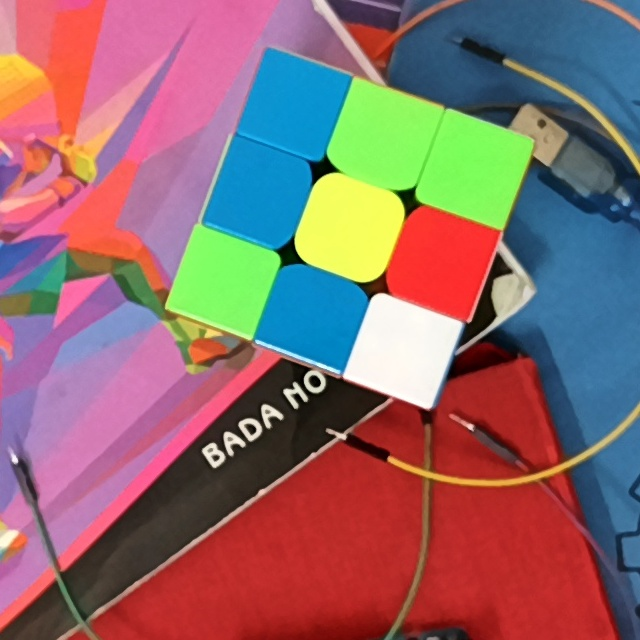tile: (348, 103, 419, 173), (439, 137, 510, 207), (407, 228, 478, 298), (225, 160, 294, 230), (189, 248, 258, 318), (275, 286, 348, 348), (368, 318, 438, 382), (315, 194, 382, 260), (260, 74, 327, 139)
